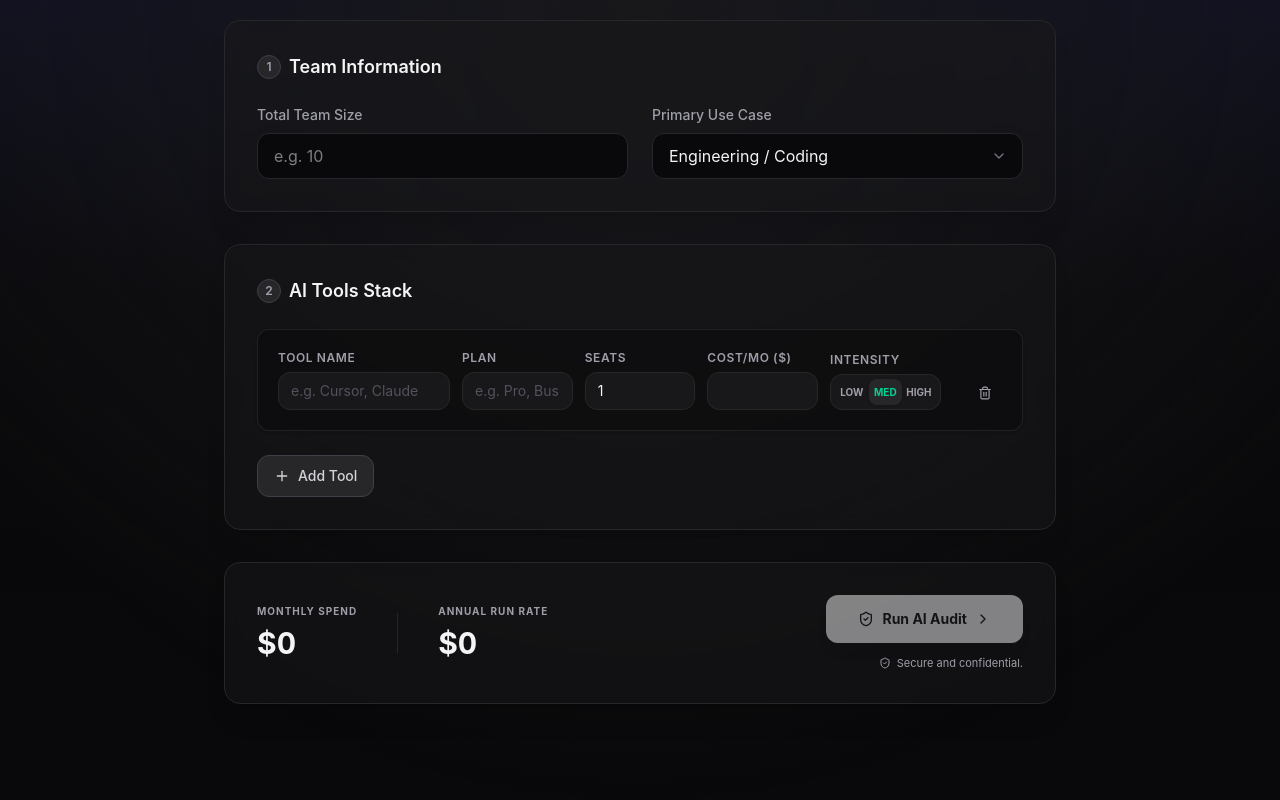
LandingPage › calculates total spend across multiple tools
This screenshot has width=1280, height=800.
(page scrolled)
Click the button "Add Tool" at [316, 476], box top-left (257, 454), bottom-right (374, 496)
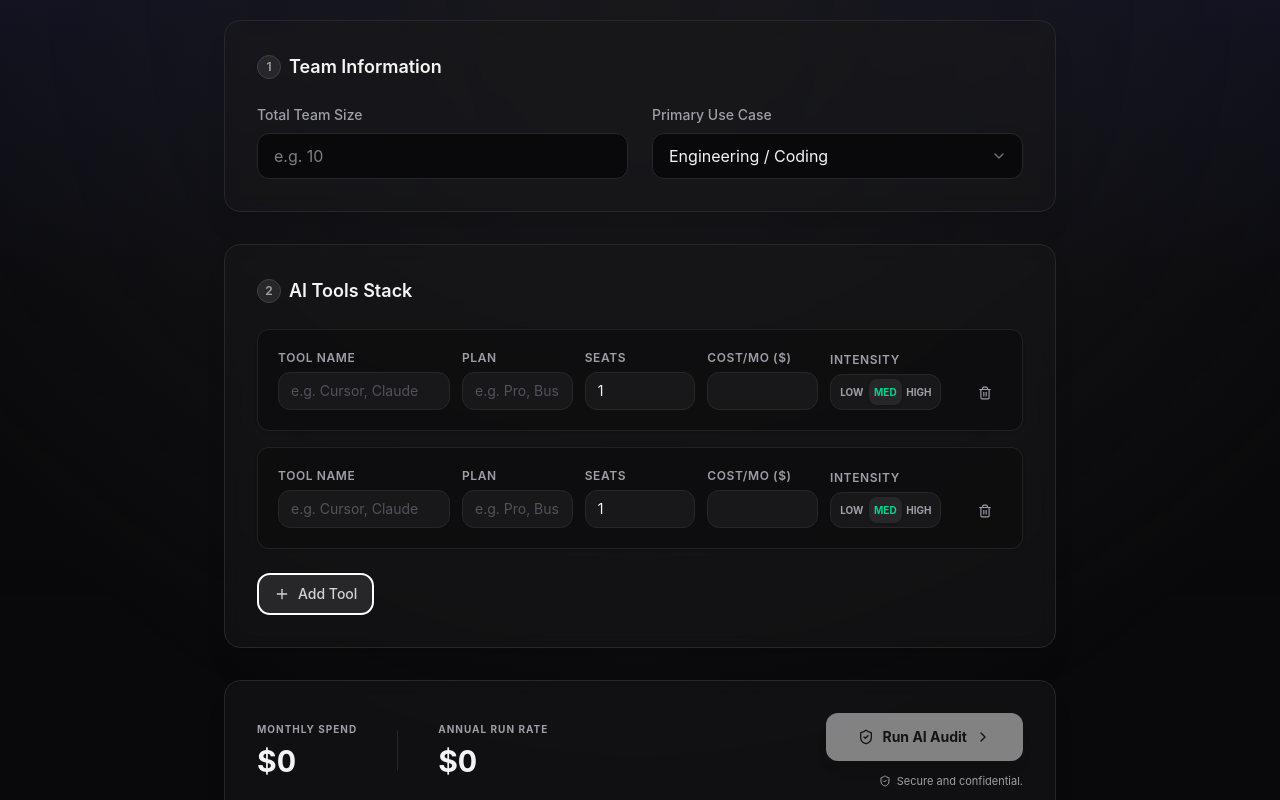
Type "100" into the 1st number field labelled "Cost/mo ($)" at [763, 390], box top-left (707, 372), bottom-right (818, 410)
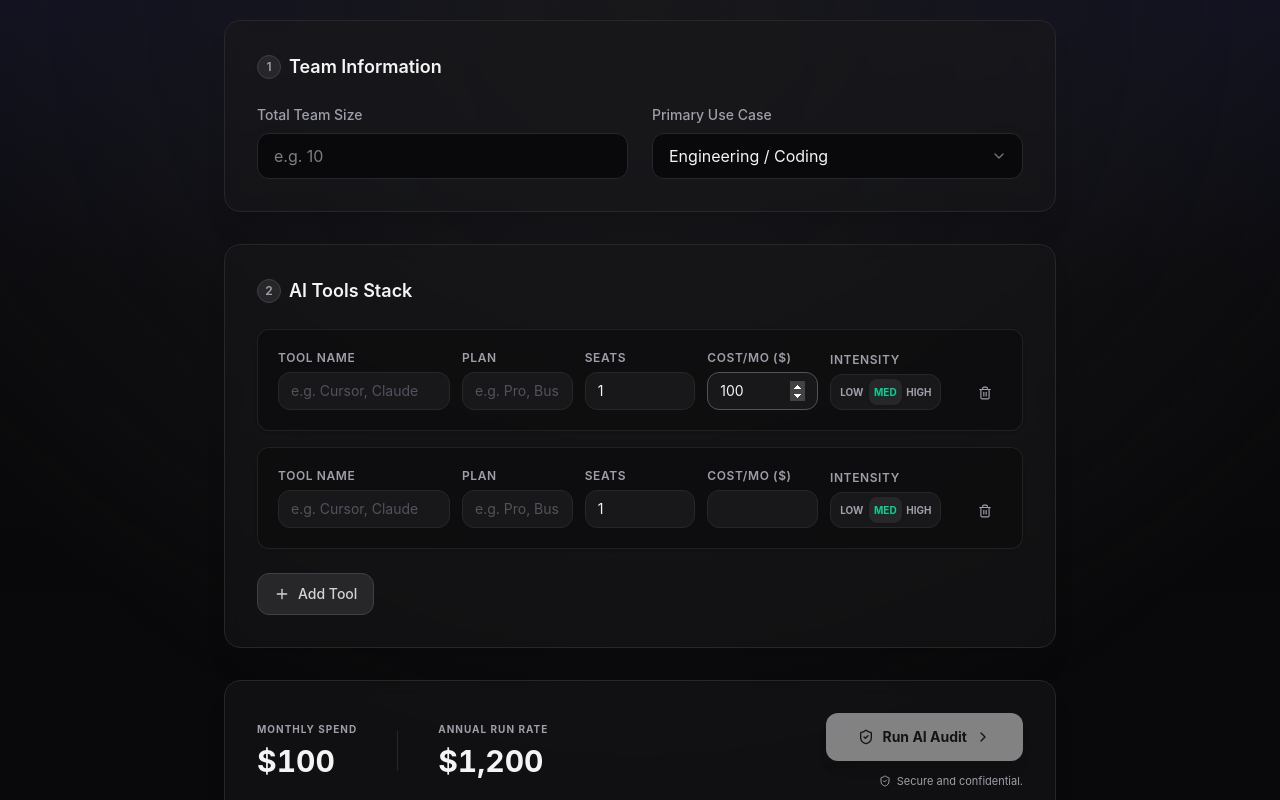
Type "200" into the 2nd number field labelled "Cost/mo ($)" at [763, 508], box top-left (707, 490), bottom-right (818, 528)
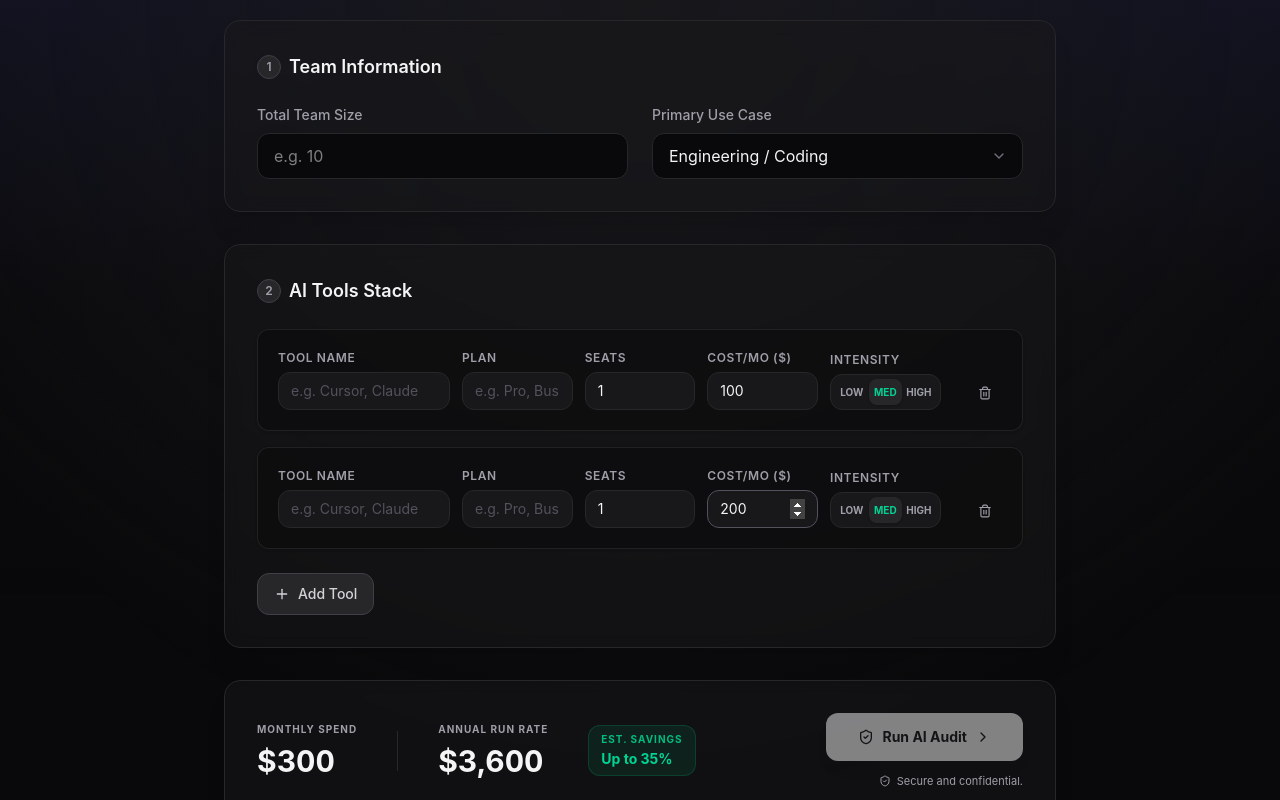
Result: the text "$300" is shown at top-left (257, 743), bottom-right (335, 779)
Result: the text "$3,600" is shown at top-left (438, 743), bottom-right (548, 779)
